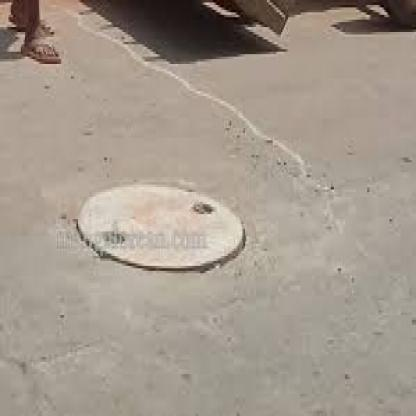manholes: (66, 155, 254, 300)
